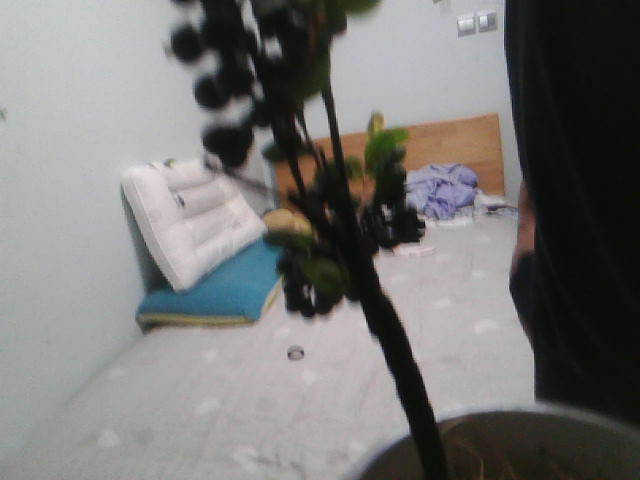blueberry: (259, 201, 307, 241), (199, 128, 248, 165), (307, 2, 350, 39), (160, 28, 207, 61), (375, 162, 409, 200), (311, 263, 347, 298), (184, 79, 224, 110), (219, 23, 253, 54), (251, 0, 281, 24)
